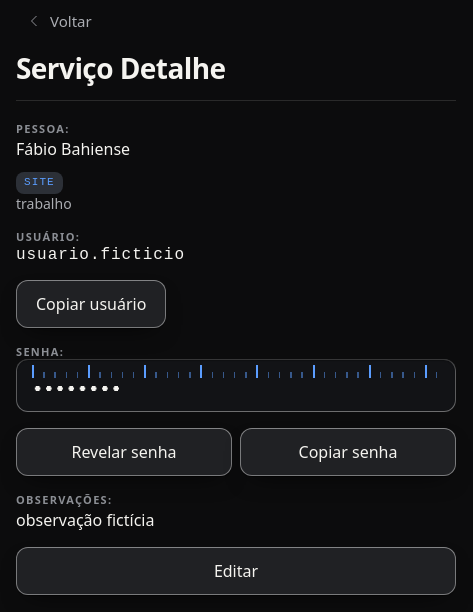
Test: CredentialDetailScreen › revela e oculta a senha ao clicar no botão
The image size is (473, 612).
Click the button "Revelar senha" at (124, 452), box [16, 428, 232, 476]
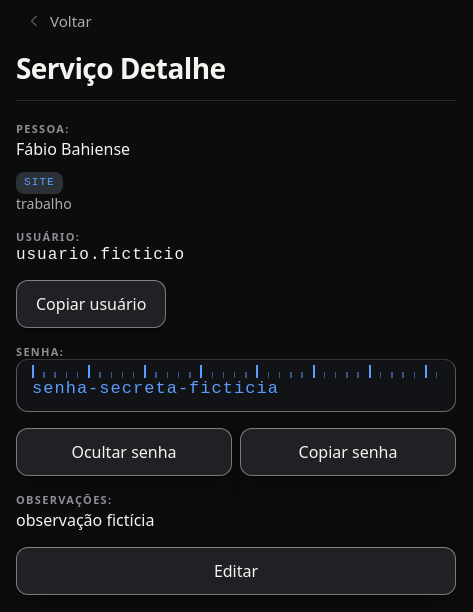
expect the text "senha-secreta-ficticia" is shown: met, box [32, 379, 279, 398]
Click the button "Ocultar senha" at (124, 452), box [16, 428, 232, 476]
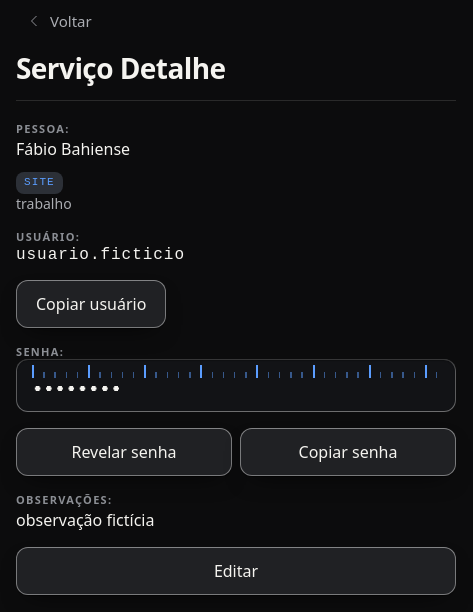
expect the text "senha-secreta-ficticia" is gone: met
